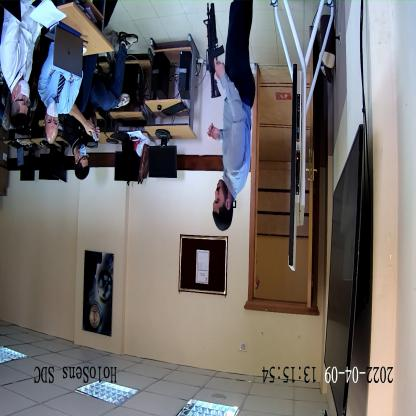handgun: (201, 0, 226, 101)
